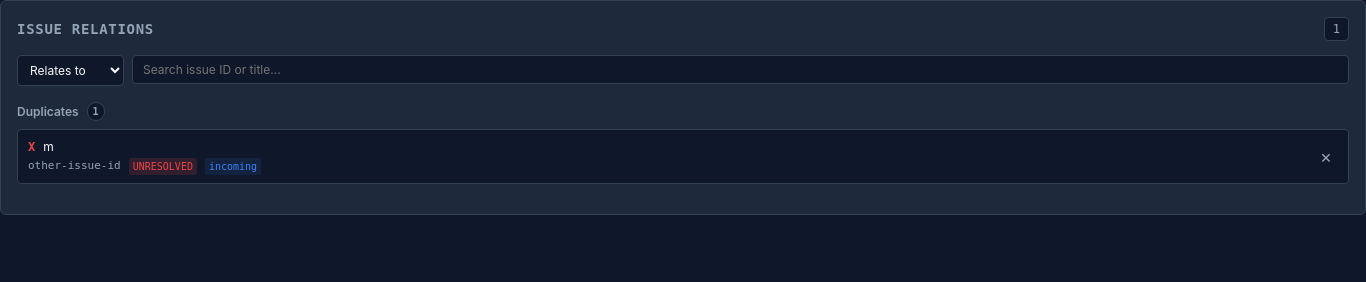
Test case: IssueRelations unlink (D11) › rolls back the optimistic removal and shows an error when the DELETE fails
Click the button named "unlink issue" at (1326, 156), box [1314,146,1338,168]
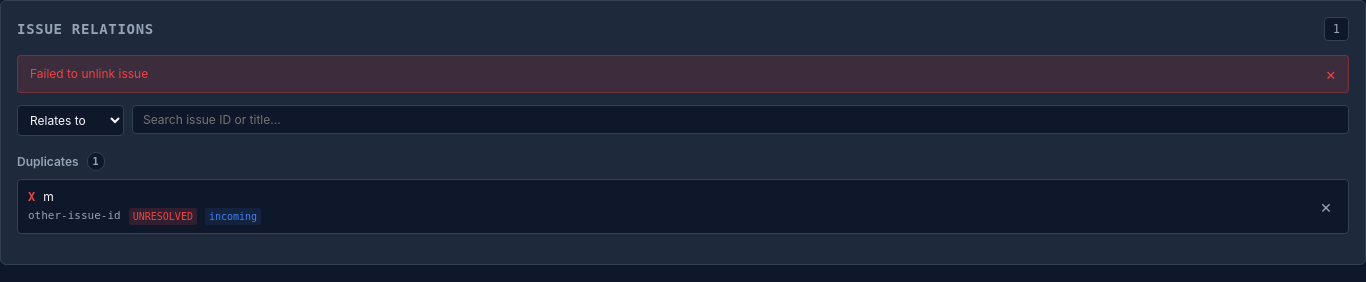
Expected: the button named "unlink issue" is shown, [1314,196,1338,218]
Result: the text "Failed to unlink issue" is shown at [30,65,148,83]
